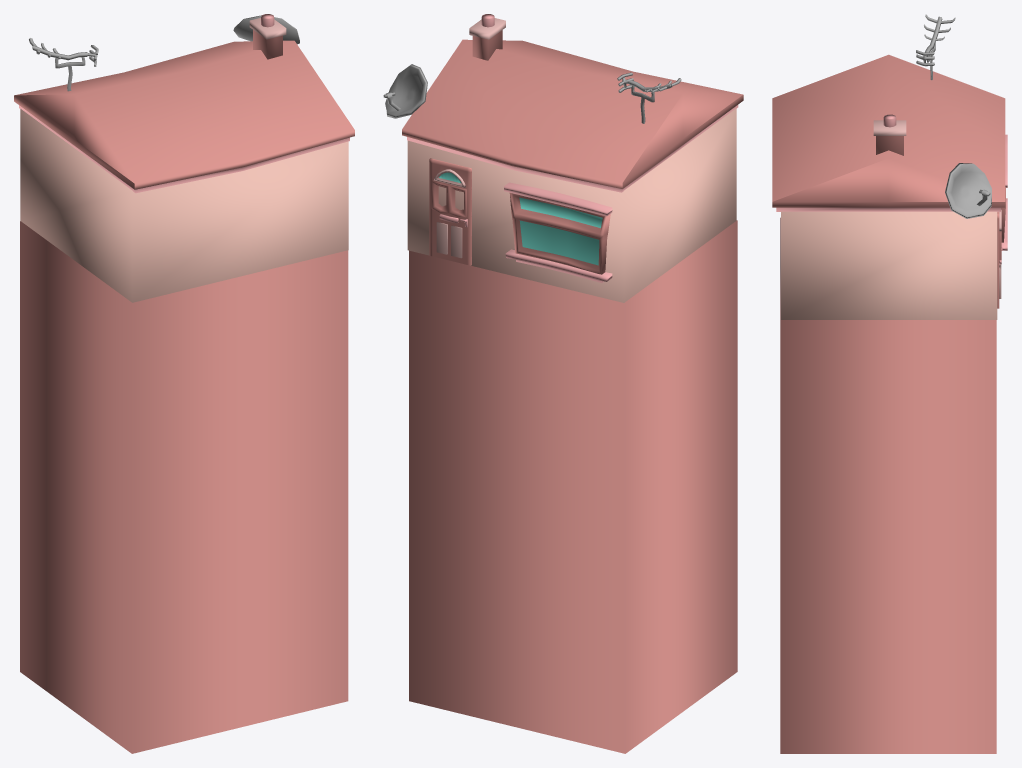
File: Building_B_Test_2.fbx
3 views of the same model, side by side, from view 1: azimuth 30°, elevation 25°; view 2: azimuth 150°, elevation 25°; view 3: azimuth 270°, elevation 25° (orthographic). The views are drawn at different scales.
Visible parts, largest first — view 1: Building_B_Test_2; view 2: Building_B_Test_2; view 3: Building_B_Test_2.
Boxes of the visible parts, x1,y1,x2,y2 form: Building_B_Test_2: (14,14,354,753); Building_B_Test_2: (383,14,743,753); Building_B_Test_2: (772,14,1007,753).
Size of the model in its own units: 597 by 1343 by 455.
